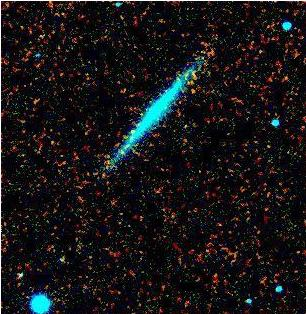star: (176, 73, 206, 103)
